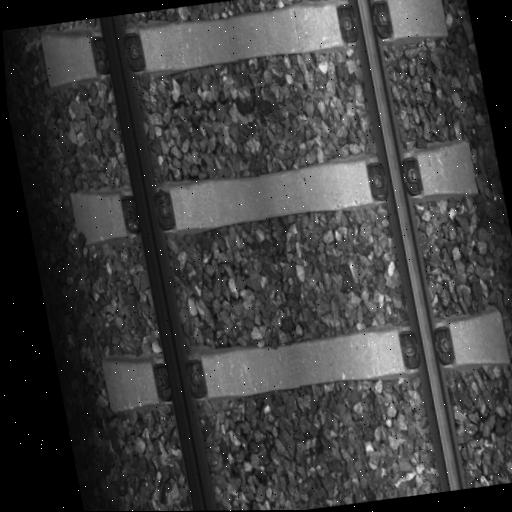clip: (86, 21, 147, 81), (364, 147, 424, 204), (149, 347, 209, 403), (395, 322, 457, 371), (119, 181, 176, 234), (333, 0, 394, 48)
sleeper: (96, 302, 512, 414), (65, 139, 481, 244), (36, 0, 452, 89)
